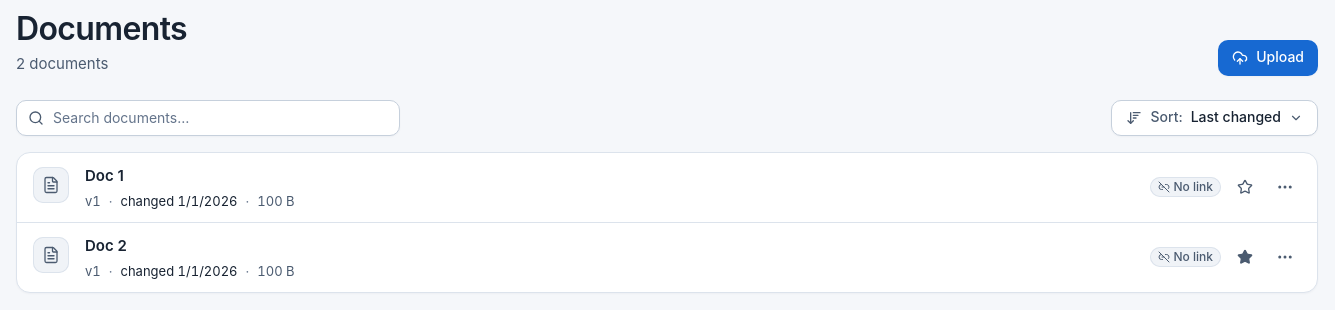
Home › searches a single digit as a valid document query
This screenshot has width=1335, height=310.
Expected: the number of links "Doc 1" is 2, 85,166 -> 124,185; 85,236 -> 127,255
Type "1" into the search field.
click(208, 118); type("1")  # box 16,100 -> 400,136
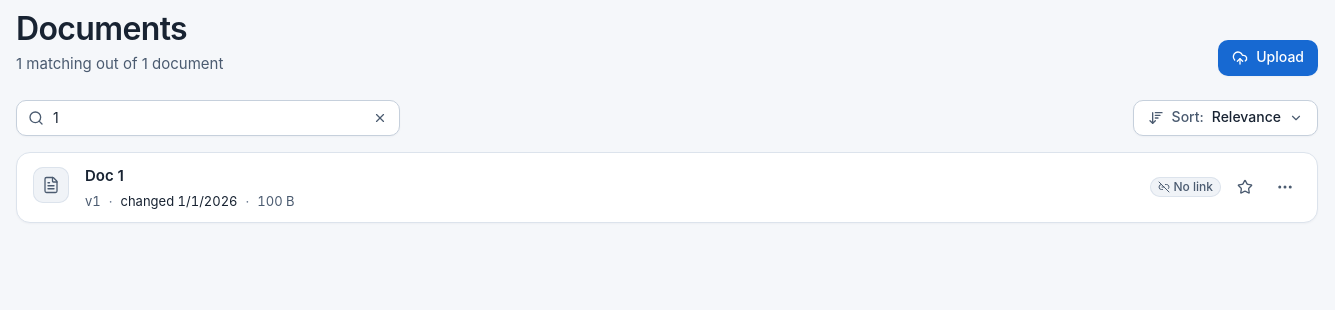
Result: the number of links "Doc 1" is 1 at 85,166 -> 124,185
